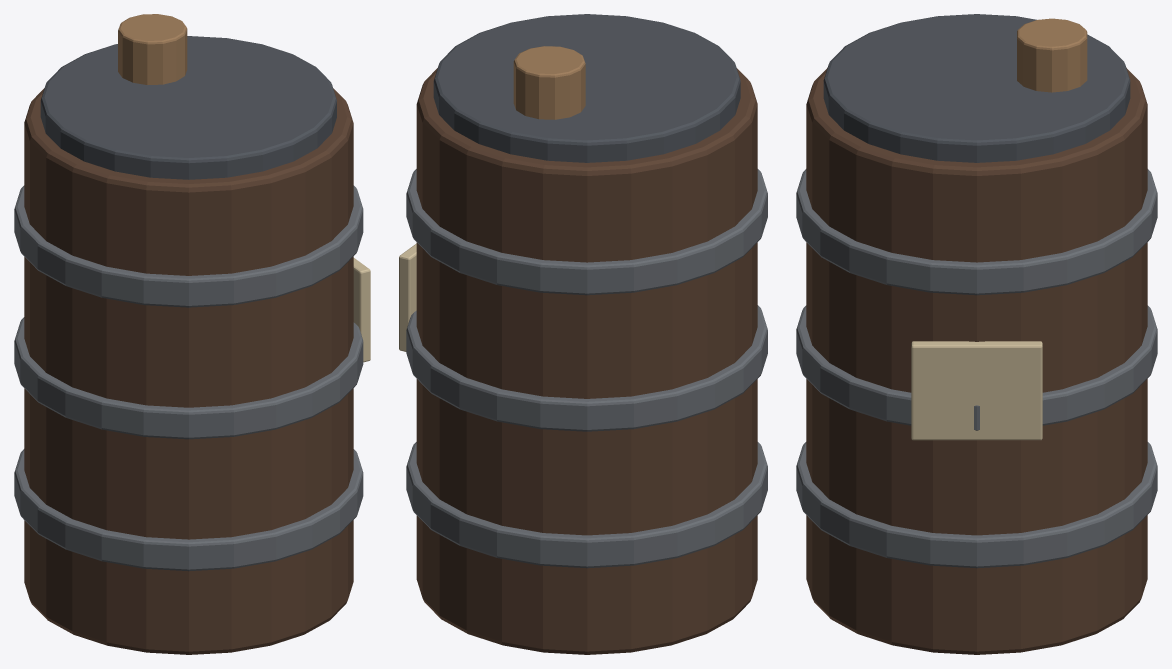
The model's file is prop_fuel_barrel.fbx.
3 views of the same model, side by side, from view 1: azimuth 30°, elevation 25°; view 2: azimuth 150°, elevation 25°; view 3: azimuth 270°, elevation 25° (orthographic). The views are drawn at different scales.
Visible parts, largest first — view 1: SM_Prop_FuelBarrel; view 2: SM_Prop_FuelBarrel; view 3: SM_Prop_FuelBarrel.
Boxes of the visible parts, x1,y1,x2,y2 form: SM_Prop_FuelBarrel: (14,14,370,654); SM_Prop_FuelBarrel: (399,14,767,654); SM_Prop_FuelBarrel: (796,14,1157,654).
Size of what is drawn, in the model's own units: 55.12 by 93 by 55.12.
